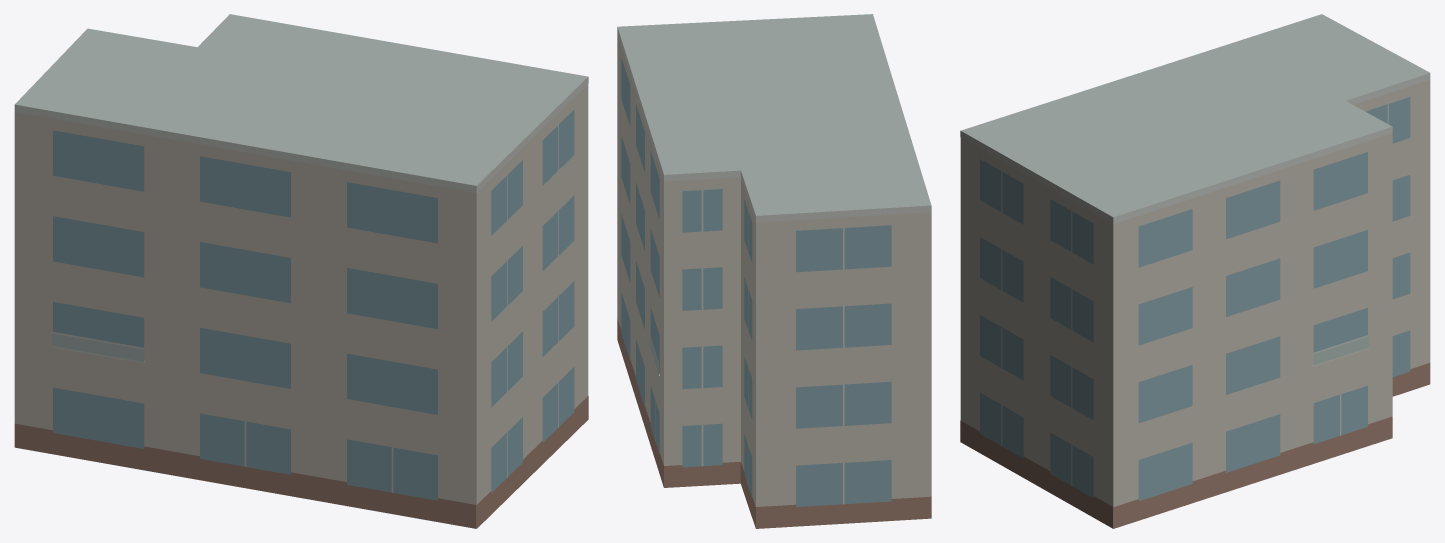
The model's file is survey-upis-32672417.glb.
3 renders of one model, left to right at view 1: azimuth 30°, elevation 25°; view 2: azimuth 150°, elevation 25°; view 3: azimuth 270°, elevation 25°, orthographic. The views are drawn at different scales.
Visible parts, largest first — view 1: survey-upis-32672417.tmp; view 2: survey-upis-32672417.tmp; view 3: survey-upis-32672417.tmp.
Part boxes in pixels (box(x1,y1,x2,y2)): survey-upis-32672417.tmp: box(14, 14, 588, 528); survey-upis-32672417.tmp: box(617, 14, 931, 528); survey-upis-32672417.tmp: box(960, 14, 1430, 528).
Bounding box in the file's own units: 16.11 × 11.5 × 15.73.
